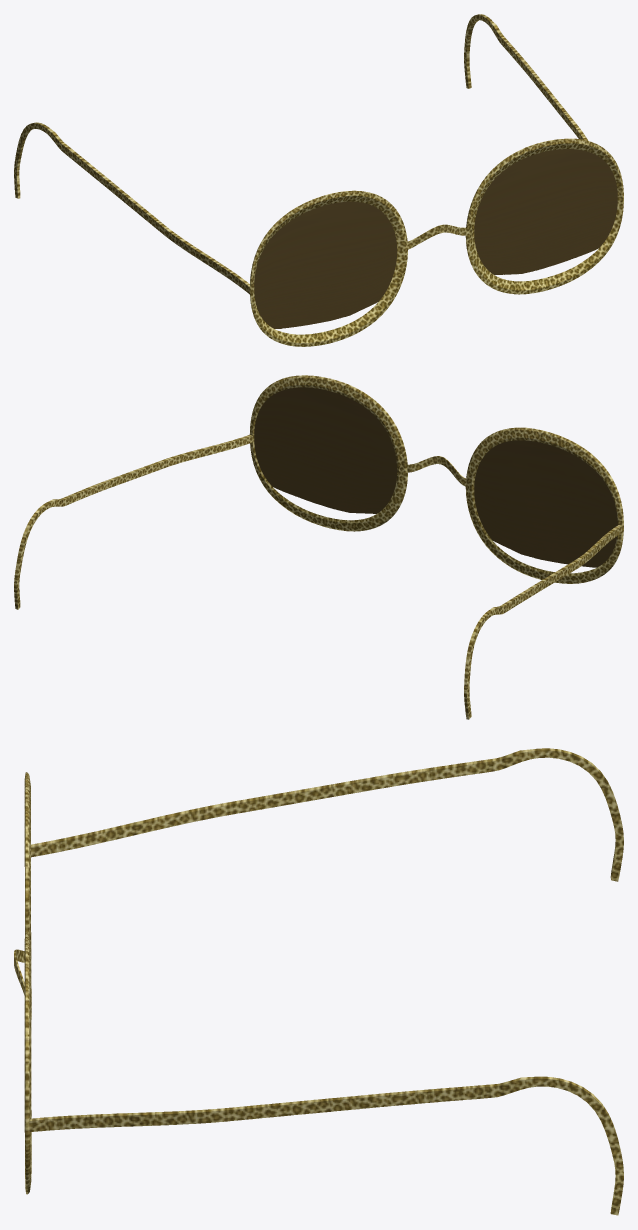
File: mhw_toigo_round_glasses_leopard.glb
3 views of the same model, one above another, from view 1: azimuth 30°, elevation 25°; view 2: azimuth 150°, elevation 25°; view 3: azimuth 270°, elevation 25° (orthographic). The views are drawn at different scales.
Parts seen in each view (by area): view 1: mhw_toigo_round_glasses_leopard; view 2: mhw_toigo_round_glasses_leopard; view 3: mhw_toigo_round_glasses_leopard.
Boxes of the visible parts, x1,y1,x2,y2 form: mhw_toigo_round_glasses_leopard: (14,14,623,346); mhw_toigo_round_glasses_leopard: (14,375,623,719); mhw_toigo_round_glasses_leopard: (14,748,623,1215).
Bounding box in the file's own units: 0.1604 × 0.0504 × 0.1229.
Materials: 1 (1 with a texture image).
